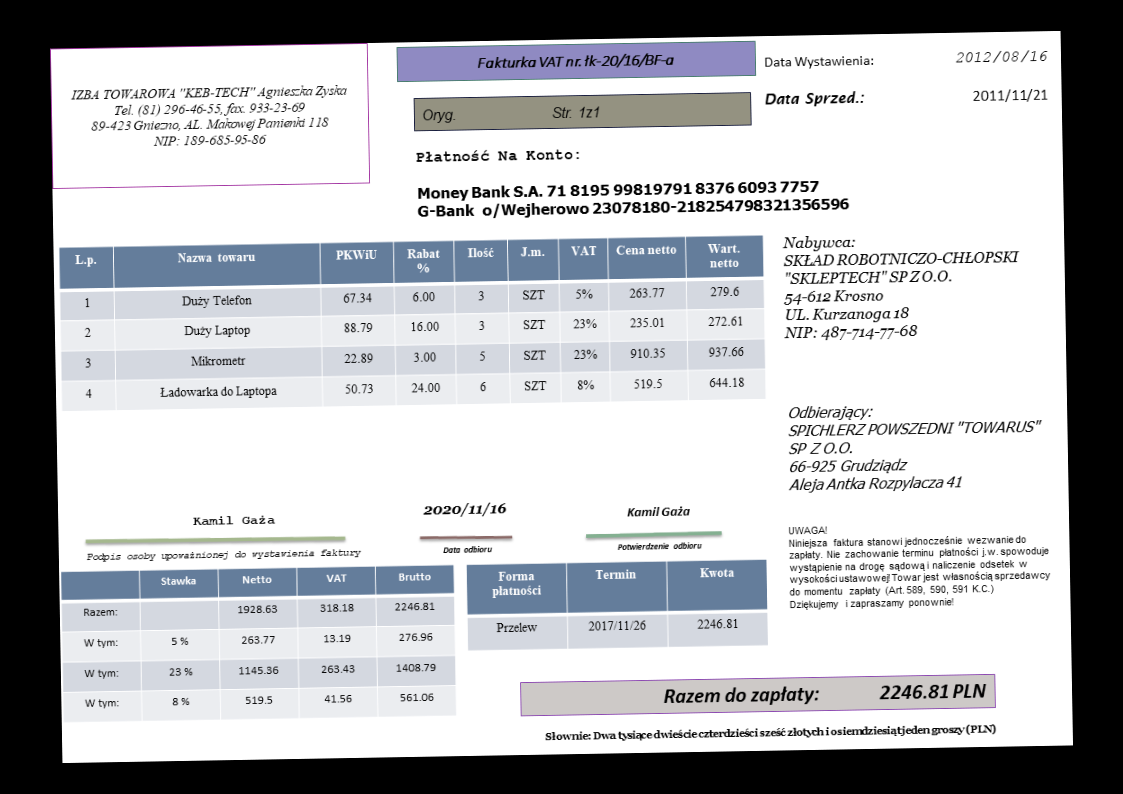Table: (57, 232, 766, 413), (60, 564, 457, 723), (465, 557, 769, 652)
TextBox: (780, 229, 1023, 345), (784, 398, 1048, 496), (785, 518, 1055, 613), (69, 78, 350, 152), (414, 175, 852, 222), (542, 720, 998, 745), (660, 678, 989, 709), (84, 544, 363, 566), (472, 50, 678, 74), (420, 102, 603, 126), (412, 146, 581, 167), (761, 88, 872, 110), (761, 51, 877, 69), (953, 46, 1050, 67), (420, 499, 508, 519), (969, 86, 1051, 105), (190, 512, 280, 529), (615, 538, 702, 554), (622, 503, 693, 520), (439, 543, 495, 557)
